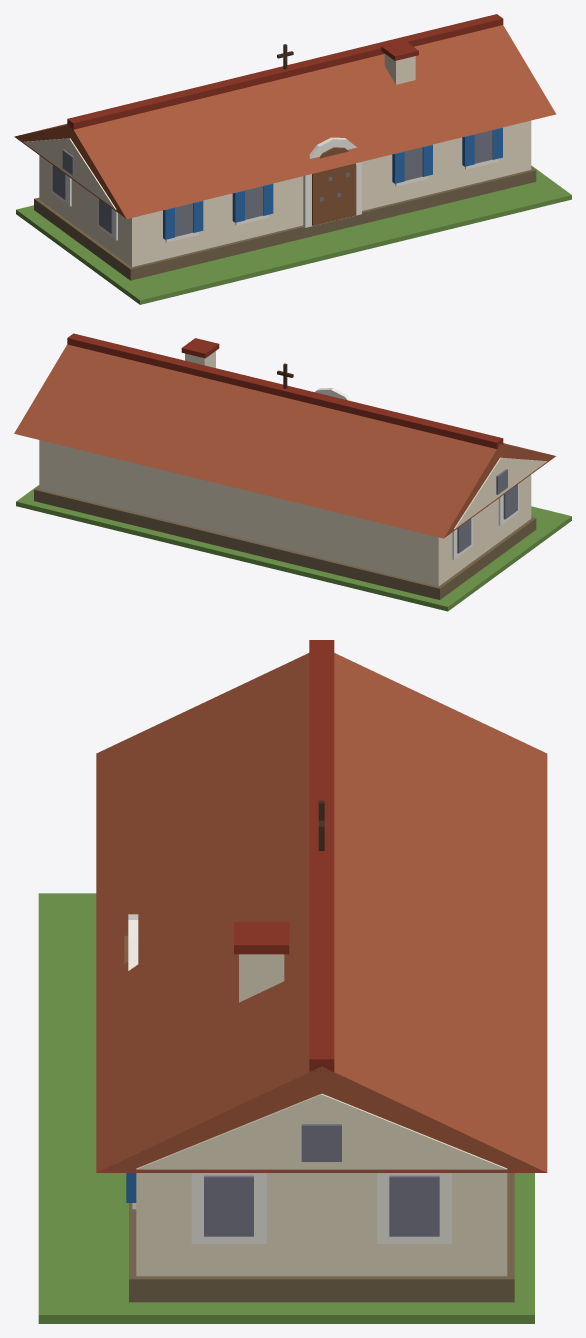
File: house-2x1-1f-andean-a.glb
3 renders of one model, top to bottom at view 1: azimuth 30°, elevation 25°; view 2: azimuth 150°, elevation 25°; view 3: azimuth 270°, elevation 25°, orthographic. The views are drawn at different scales.
Parts seen in each view (by area): view 1: house-2x1-1f-andean-a; view 2: house-2x1-1f-andean-a; view 3: house-2x1-1f-andean-a.
Boxes of the visible parts, x1,y1,x2,y2 form: house-2x1-1f-andean-a: [14, 14, 571, 304]; house-2x1-1f-andean-a: [14, 333, 571, 611]; house-2x1-1f-andean-a: [38, 640, 547, 1323].
Bounding box in the file's own units: 2.01 × 0.685 × 1.01.
Materials: 1 (1 with a texture image).
